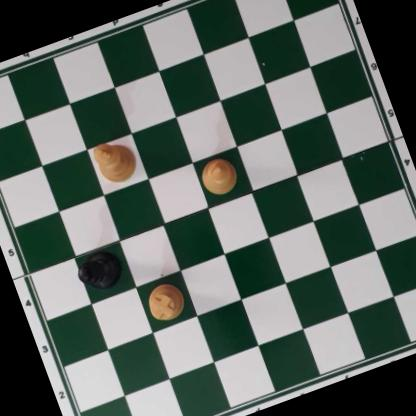black-king: (72, 246, 130, 296)
white-bishop: (197, 154, 240, 199)
white-king: (91, 133, 139, 188)
white-rook: (142, 278, 189, 325)
